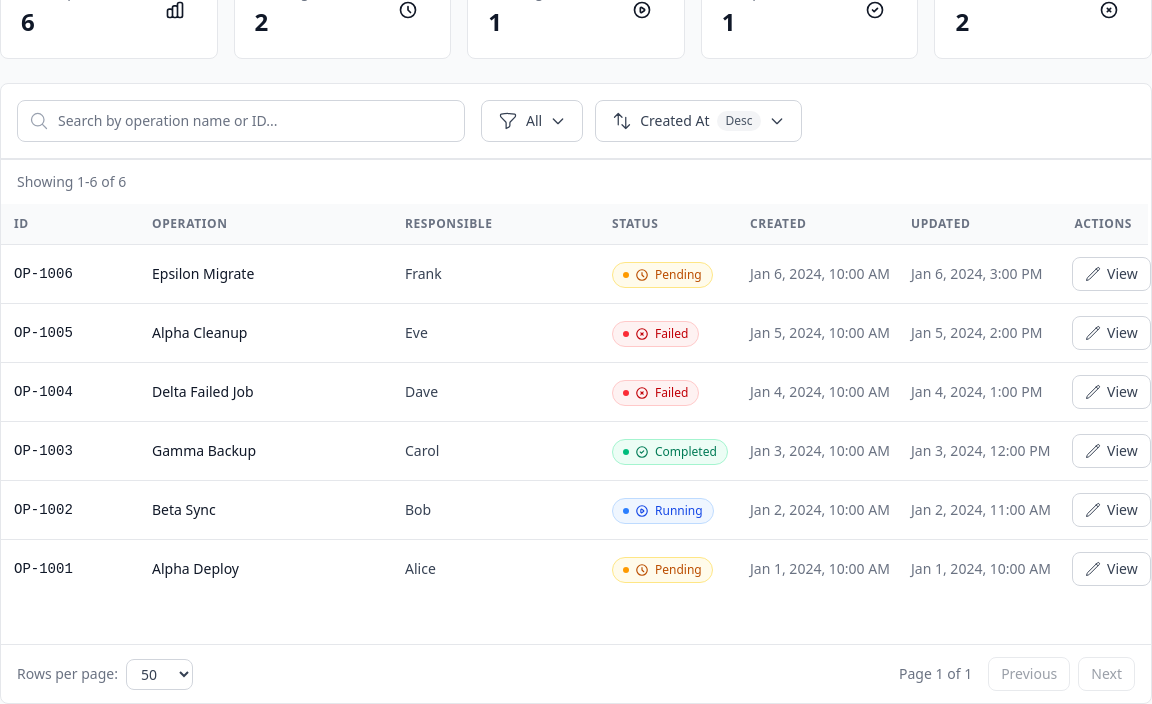
Scenario: OperationsDashboard › mutation success + refetch failure keeps visible updated row and inline retry
(page scrolled)
Click the button with aria-label "View details for Alpha Deploy" at (1111, 569), box x1=1072 y1=552 x2=1151 y2=586
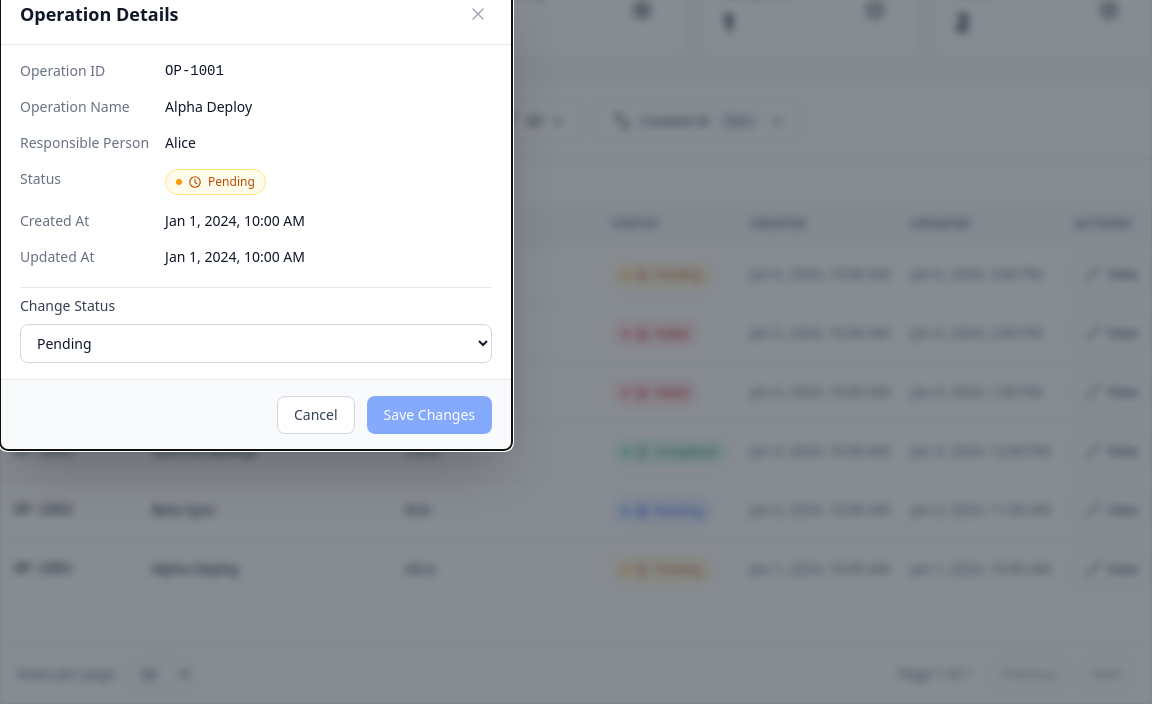
Select "Completed" in the dropdown named "Select new status" at (256, 344), box x1=20 y1=324 x2=492 y2=363
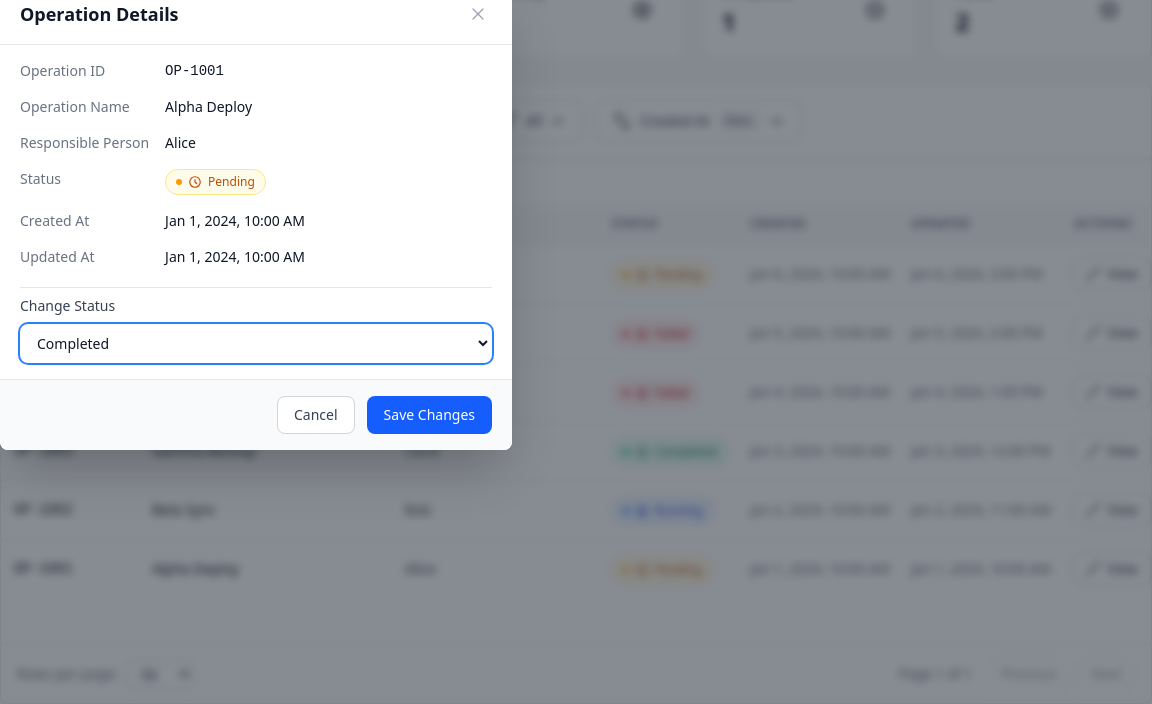
Click the button "Save Changes" at (429, 415), box x1=367 y1=396 x2=492 y2=434
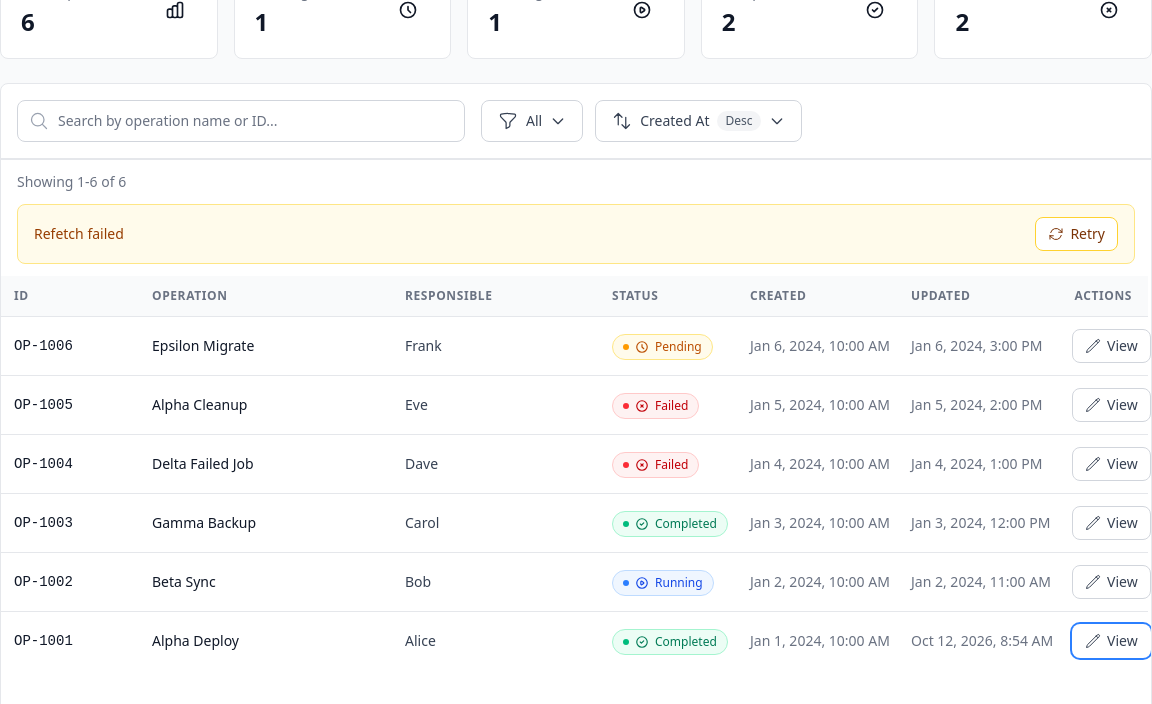
Now the text "Completed" is shown, box x1=612 y1=629 x2=728 y2=655
Now the message reads "Refetch failed Retry", box x1=34 y1=224 x2=124 y2=243
Now the button "Retry" is shown, box x1=1035 y1=217 x2=1118 y2=251
